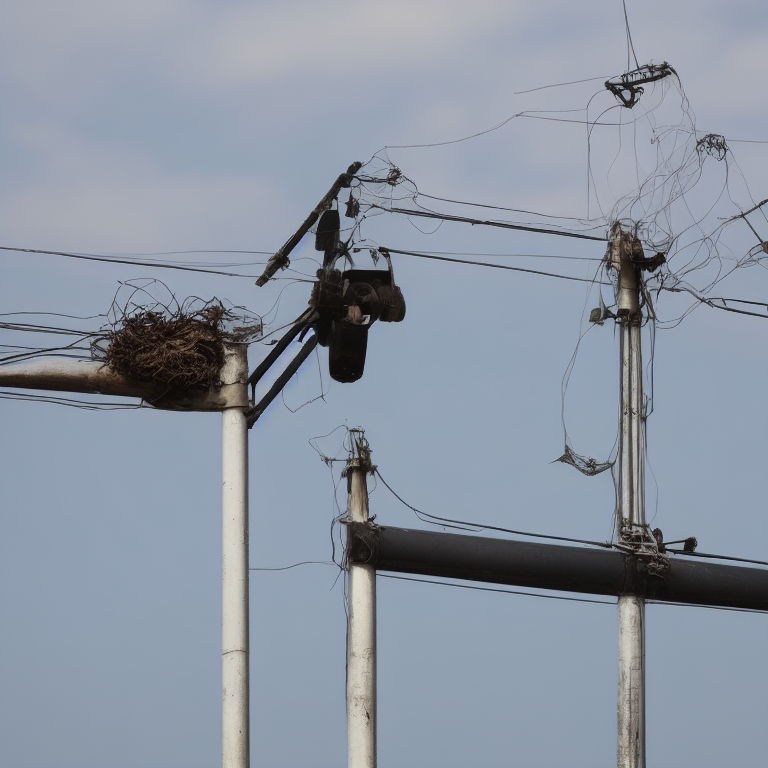nest: (108, 310, 234, 394)
